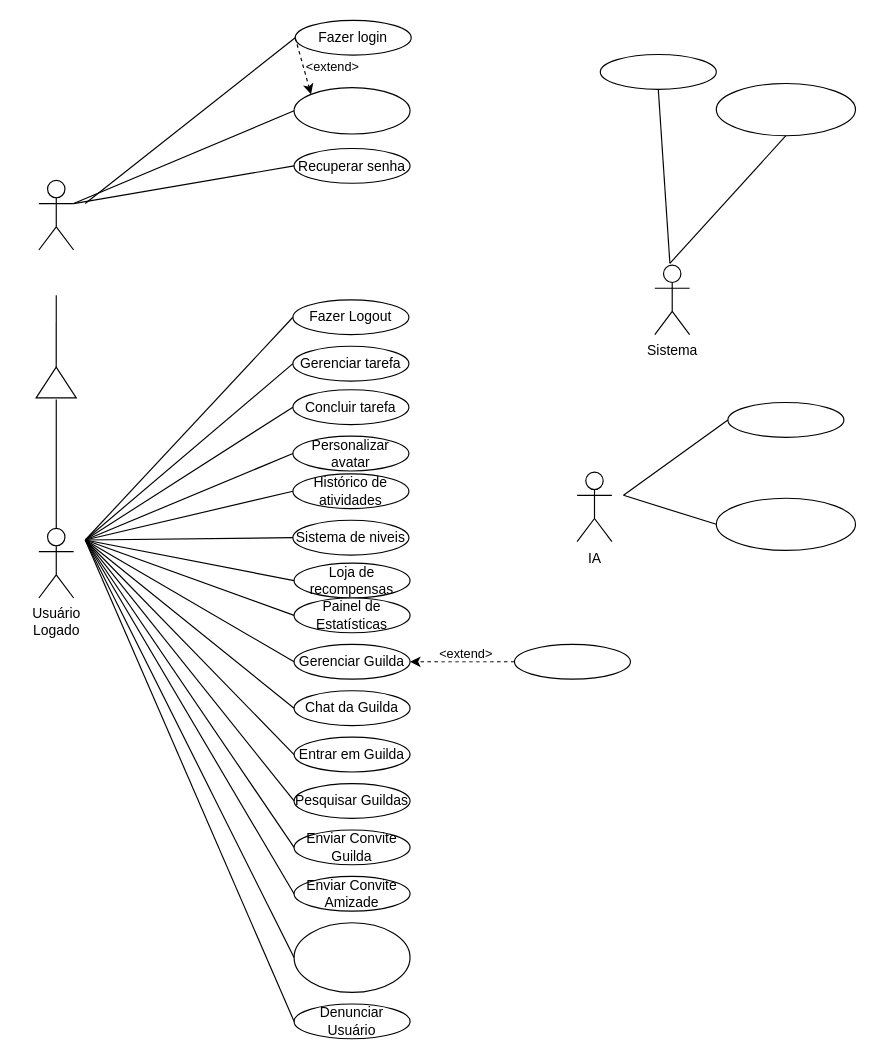
Image size: 876x1059. Some labels were removed from this diagram. The centre of each missing label's shape, as x and y in pixels:
"Cadastrar usuário" goes at [351,110].
"Gerenciar Notificações" goes at [785,109].
"Gerenciar Quests da Guilda" goes at [571,661].
"Missões diárias/semanais" goes at [785,419].
"Moderação de Usuários (Dev/Admin)" goes at [351,957].
"Sistema de badges" goes at [657,71].
"Sugestão Inteligente de Tarefas" goes at [785,523].
"Usuário não logado" goes at [56,214].
